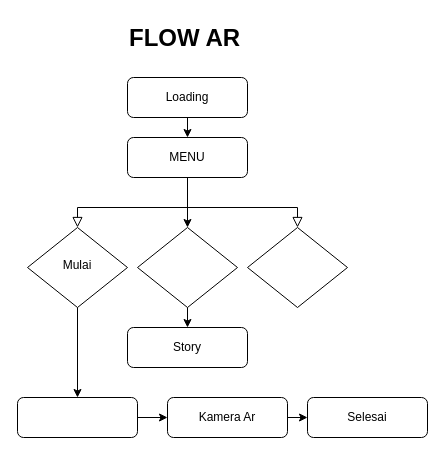
Some shapes in this 445 by 455 pixel diagram are drawn without their labels. The box of each missing label's shape, as (x1, y1, x2, y2) in pixels:
Keluar apk: (246, 226, 348, 308)
Quiz: (16, 396, 138, 438)
Story Animals: (136, 226, 238, 308)
